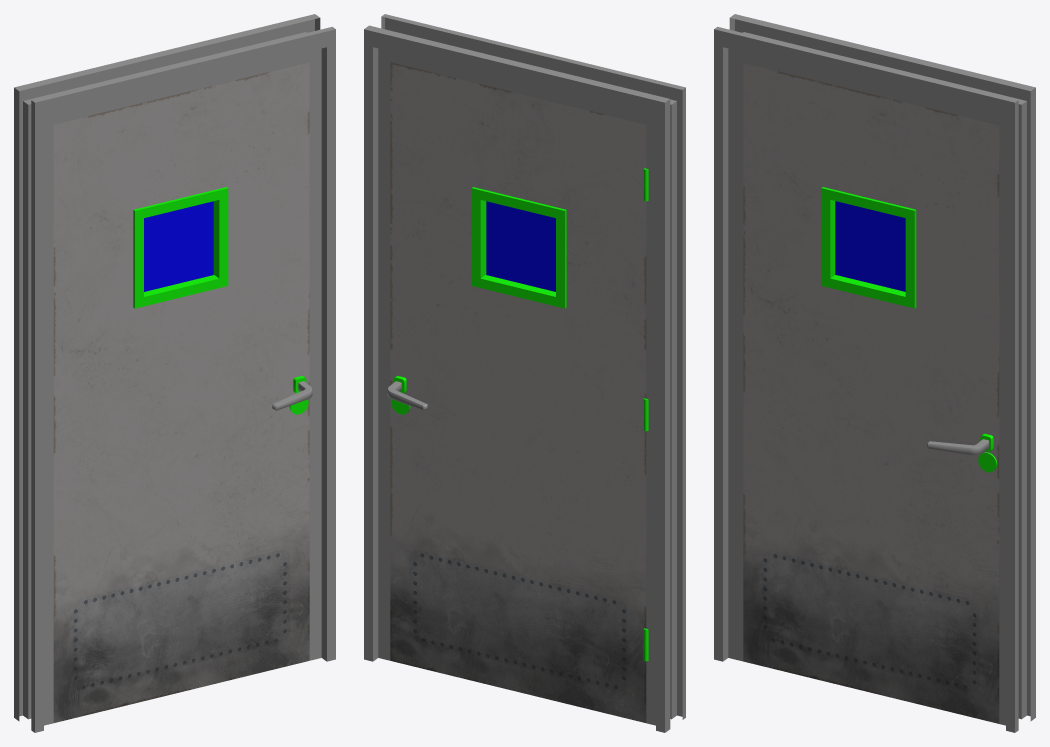
The model's file is SM_Door_1_b.FBX.
3 renders of one model, left to right at view 1: azimuth 30°, elevation 25°; view 2: azimuth 150°, elevation 25°; view 3: azimuth 330°, elevation 25°, orthographic.
Visible parts, largest first — view 1: Door_1_b, Door_1_b_frame; view 2: Door_1_b, Door_1_b_frame; view 3: Door_1_b, Door_1_b_frame, Door_1_b_handle.
Part boxes in pixels (bbox=[...]): Door_1_b: bbox=[53, 62, 309, 722]; Door_1_b_frame: bbox=[14, 14, 335, 732]; Door_1_b: bbox=[390, 62, 648, 722]; Door_1_b_frame: bbox=[364, 14, 685, 732]; Door_1_b: bbox=[743, 63, 999, 723]; Door_1_b_frame: bbox=[714, 14, 1035, 732]; Door_1_b_handle: bbox=[926, 439, 988, 454].
Size of the model in its own units: 100 by 28.22 by 200.
